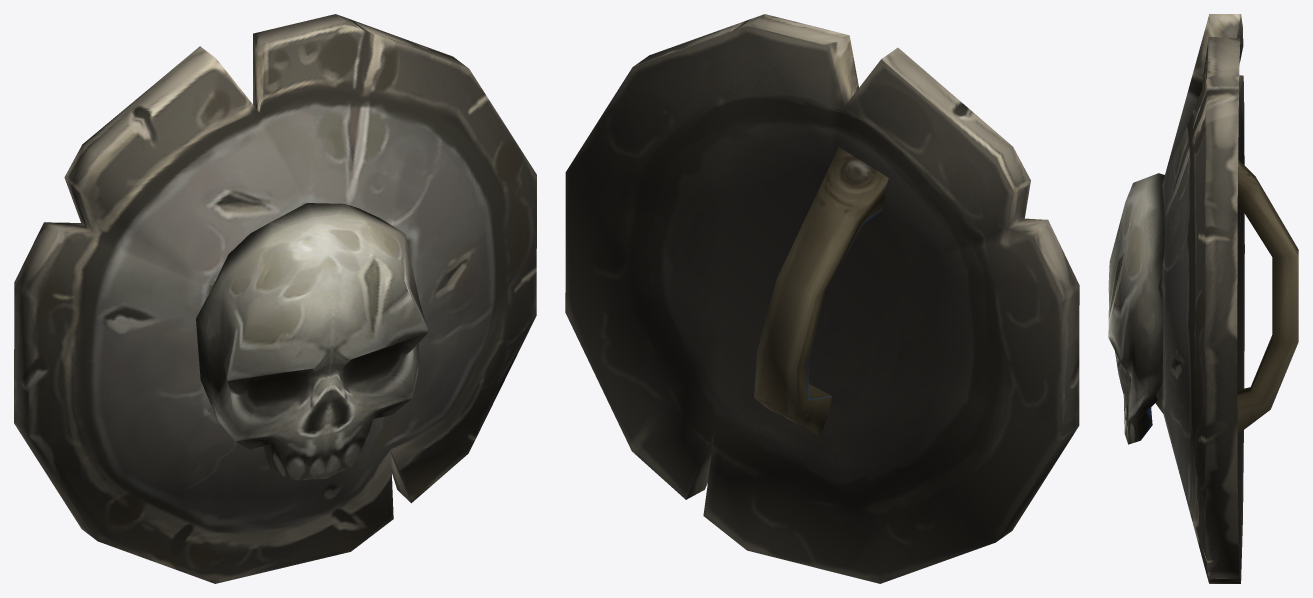
File: SHIELD.FBX
3 renders of one model, left to right at view 1: azimuth 30°, elevation 25°; view 2: azimuth 150°, elevation 25°; view 3: azimuth 270°, elevation 25°, orthographic. The views are drawn at different scales.
Parts seen in each view (by area): view 1: Shield; view 2: Shield; view 3: Shield.
Part boxes in pixels (x1,y1,x2,y2): Shield: (14, 14, 536, 583); Shield: (565, 14, 1079, 583); Shield: (1108, 14, 1298, 583).
Size of the model in its own units: 2.66 by 2.66 by 0.9057.
